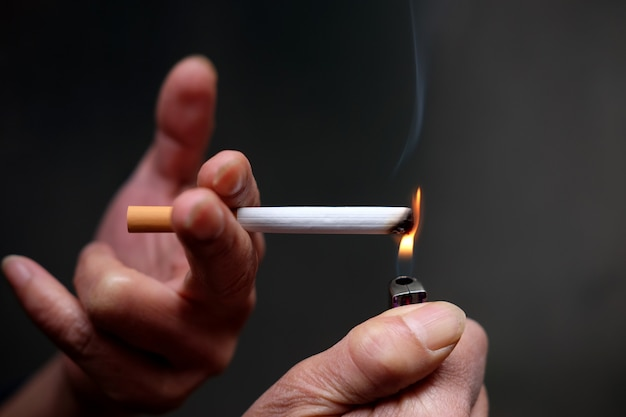cigarette: (123, 199, 418, 237)
